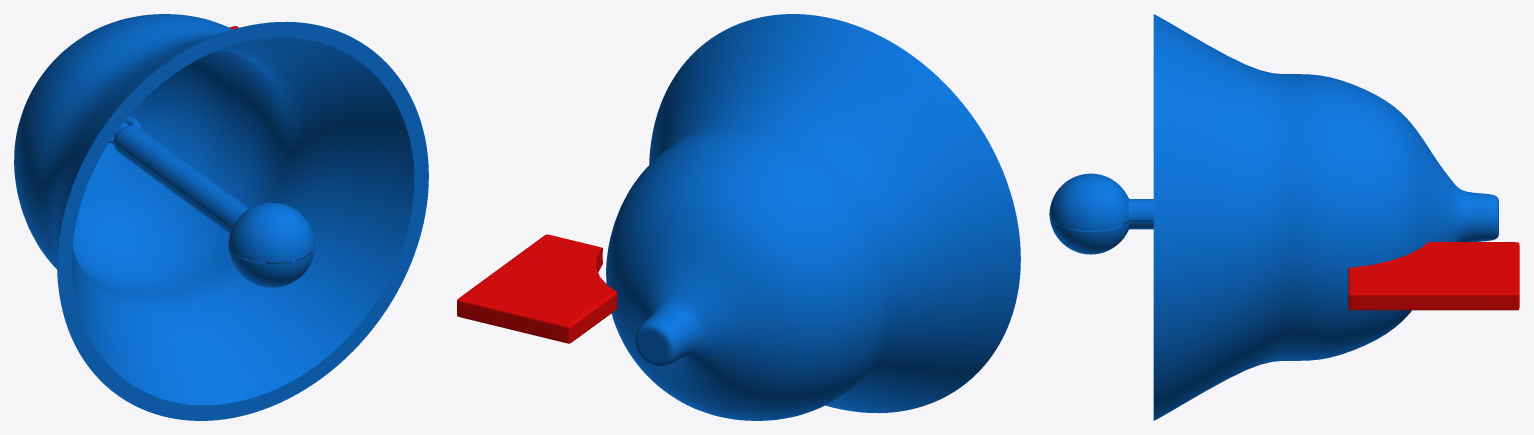
The picture shows the model from 3 angles, left to right: view 1: azimuth 30°, elevation 25°; view 2: azimuth 150°, elevation 25°; view 3: azimuth 270°, elevation 25°; orthographic projection. The views are drawn at different scales.
Visible parts, largest first — view 1: Sphere.002; view 2: Sphere.002; view 3: Sphere.002.
Part boxes in pixels (x1,y1,x2,y2): Sphere.002: (14, 14, 428, 420); Sphere.002: (457, 14, 1020, 420); Sphere.002: (1049, 14, 1519, 420).
Size of the model in its own units: 0.3662 by 0.3657 by 0.4226.
